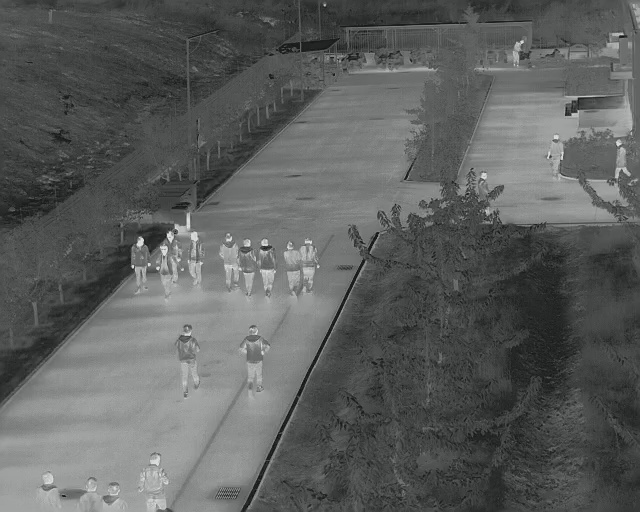person: (238, 325, 269, 396), (173, 323, 202, 398), (136, 451, 168, 512), (128, 236, 150, 294), (219, 233, 240, 291), (255, 238, 276, 296), (281, 239, 301, 298), (299, 236, 318, 295), (238, 238, 257, 296), (154, 244, 172, 302), (187, 232, 205, 287), (612, 137, 630, 179), (546, 133, 562, 180), (478, 170, 490, 203), (513, 38, 525, 66)
